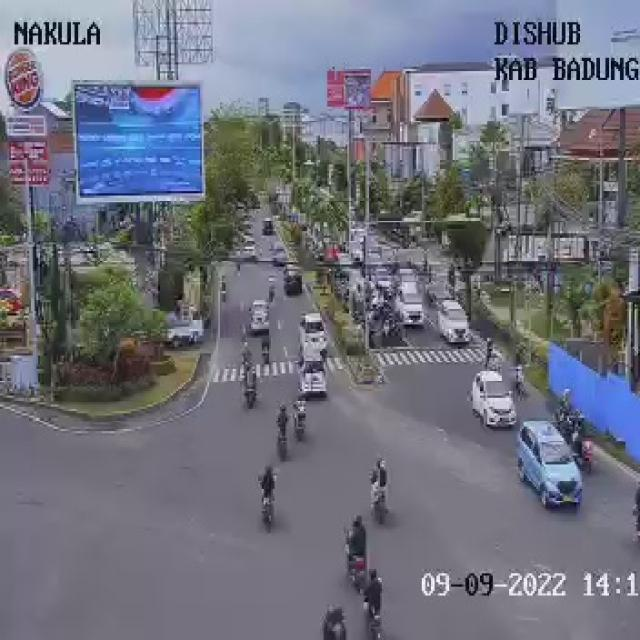car: (518, 421, 582, 507), (471, 370, 516, 427), (299, 312, 328, 398), (394, 269, 425, 327), (438, 300, 471, 344), (249, 300, 269, 333), (284, 264, 302, 296), (270, 241, 289, 266), (371, 268, 390, 288)
motorcyclist: (552, 390, 585, 458), (345, 515, 368, 591), (364, 569, 384, 639), (370, 458, 389, 524), (259, 465, 275, 532), (242, 344, 258, 408), (322, 606, 346, 639), (276, 404, 289, 461), (292, 400, 306, 441), (581, 438, 594, 472), (261, 335, 270, 363), (220, 276, 228, 302), (268, 276, 276, 302)
